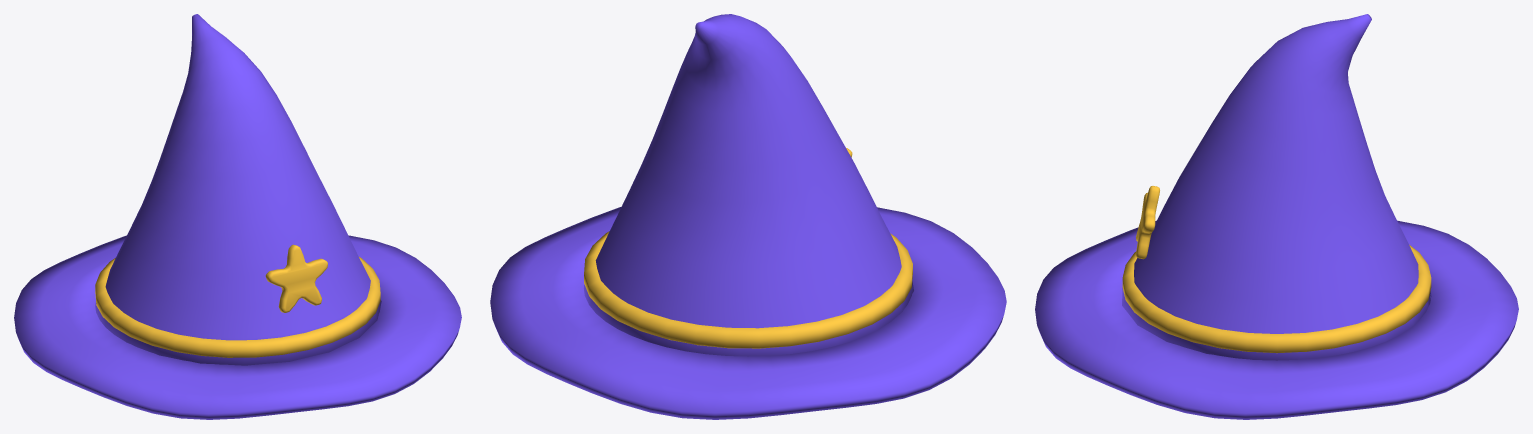
File: wizard_hat.glb
3 renders of one model, left to right at view 1: azimuth 30°, elevation 25°; view 2: azimuth 150°, elevation 25°; view 3: azimuth 270°, elevation 25°, orthographic. The views are drawn at different scales.
Visible parts, largest first — view 1: cone, brim, band, star; view 2: cone, brim, band; view 3: cone, brim, band, star.
Part boxes in pixels (box(x1,y1,x2,y2)): cone: box(95, 14, 381, 365); brim: box(14, 235, 461, 419); band: box(95, 256, 380, 357); star: box(265, 244, 327, 312); cone: box(584, 14, 913, 356); brim: box(490, 207, 1006, 419); band: box(584, 231, 912, 348); cone: box(1122, 14, 1430, 360); brim: box(1035, 220, 1518, 419); band: box(1122, 244, 1431, 353); star: box(1136, 186, 1159, 259).
Bounding box in the file's own units: 1.57 × 1.1 × 1.57.
